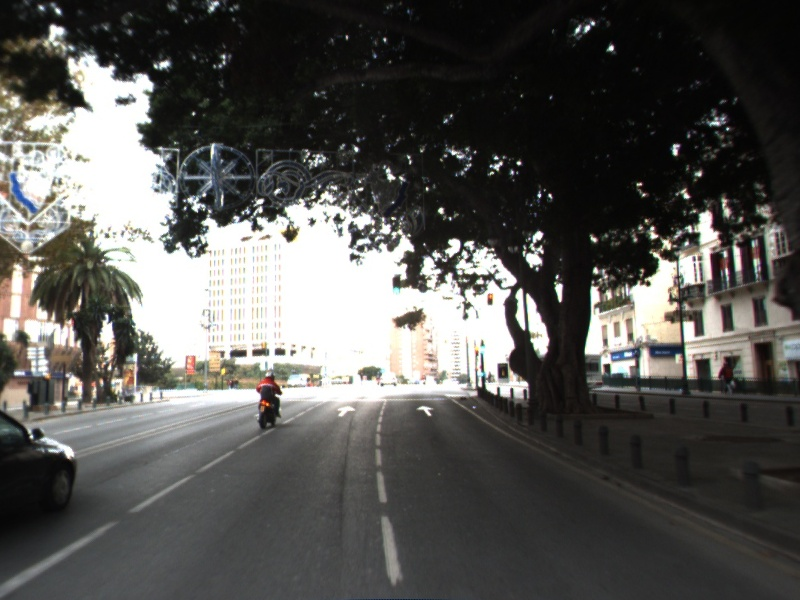STRAIGHT: (335, 404, 358, 419), (414, 403, 436, 418)
